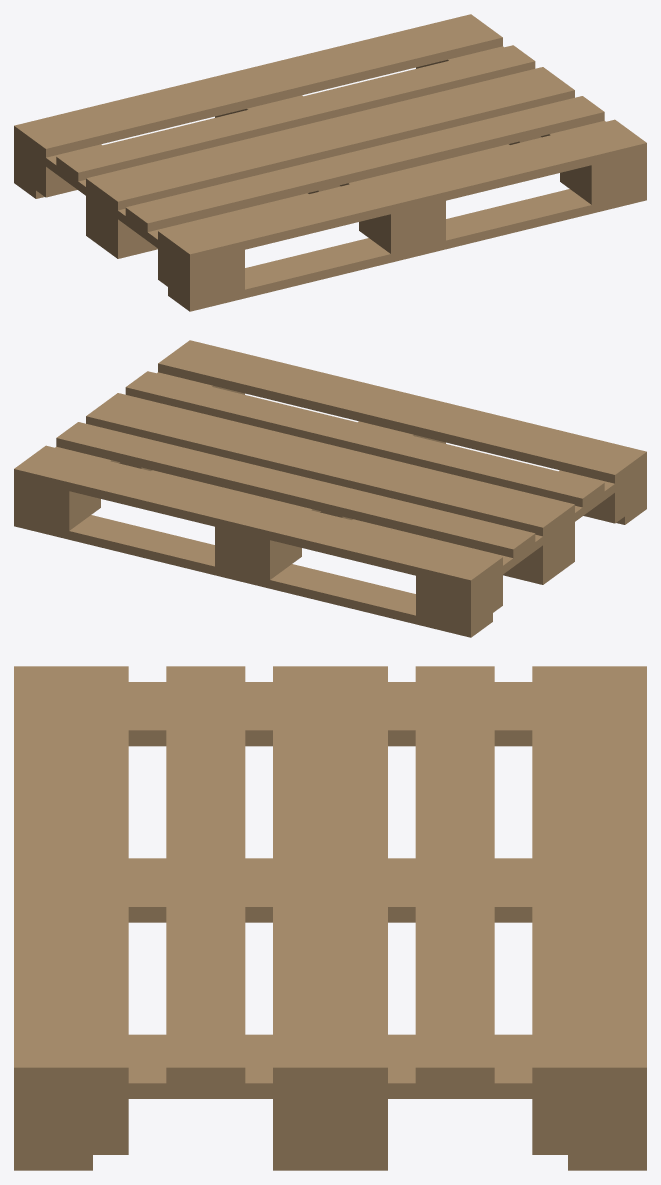
The model's file is SM_EuroPallet.fbx.
3 renders of one model, top to bottom at view 1: azimuth 30°, elevation 25°; view 2: azimuth 150°, elevation 25°; view 3: azimuth 270°, elevation 25°, orthographic. The views are drawn at different scales.
Parts seen in each view (by area): view 1: CS_EuroPallet; view 2: CS_EuroPallet; view 3: CS_EuroPallet.
Boxes of the visible parts, bbox=[...] form: CS_EuroPallet: bbox=[14, 14, 646, 311]; CS_EuroPallet: bbox=[14, 340, 646, 637]; CS_EuroPallet: bbox=[14, 666, 646, 1170].
Bounding box in the file's own units: 120 × 14.4 × 80.
